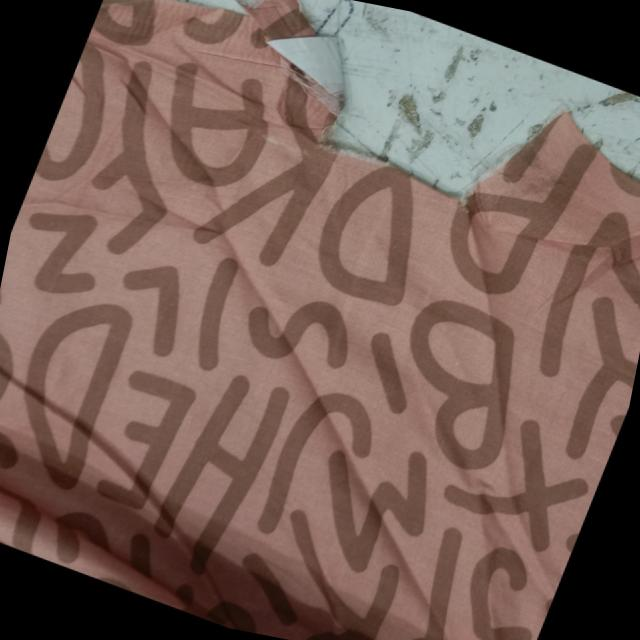cut: (230, 0, 606, 248)
